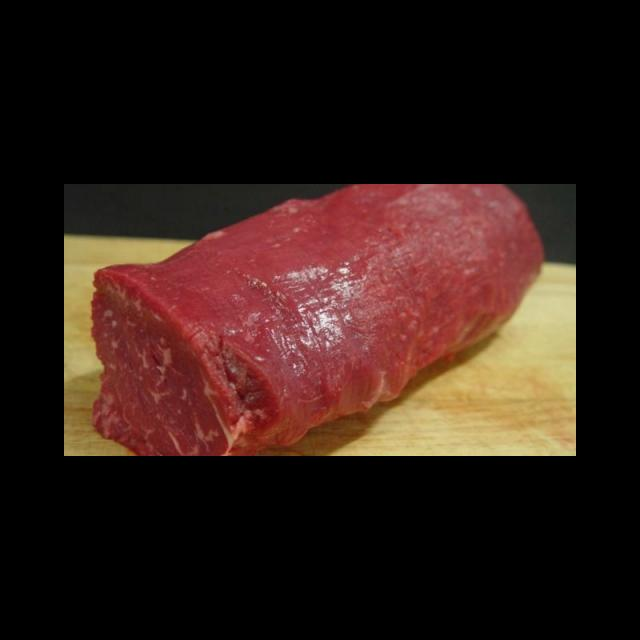beef: (91, 189, 545, 456)
